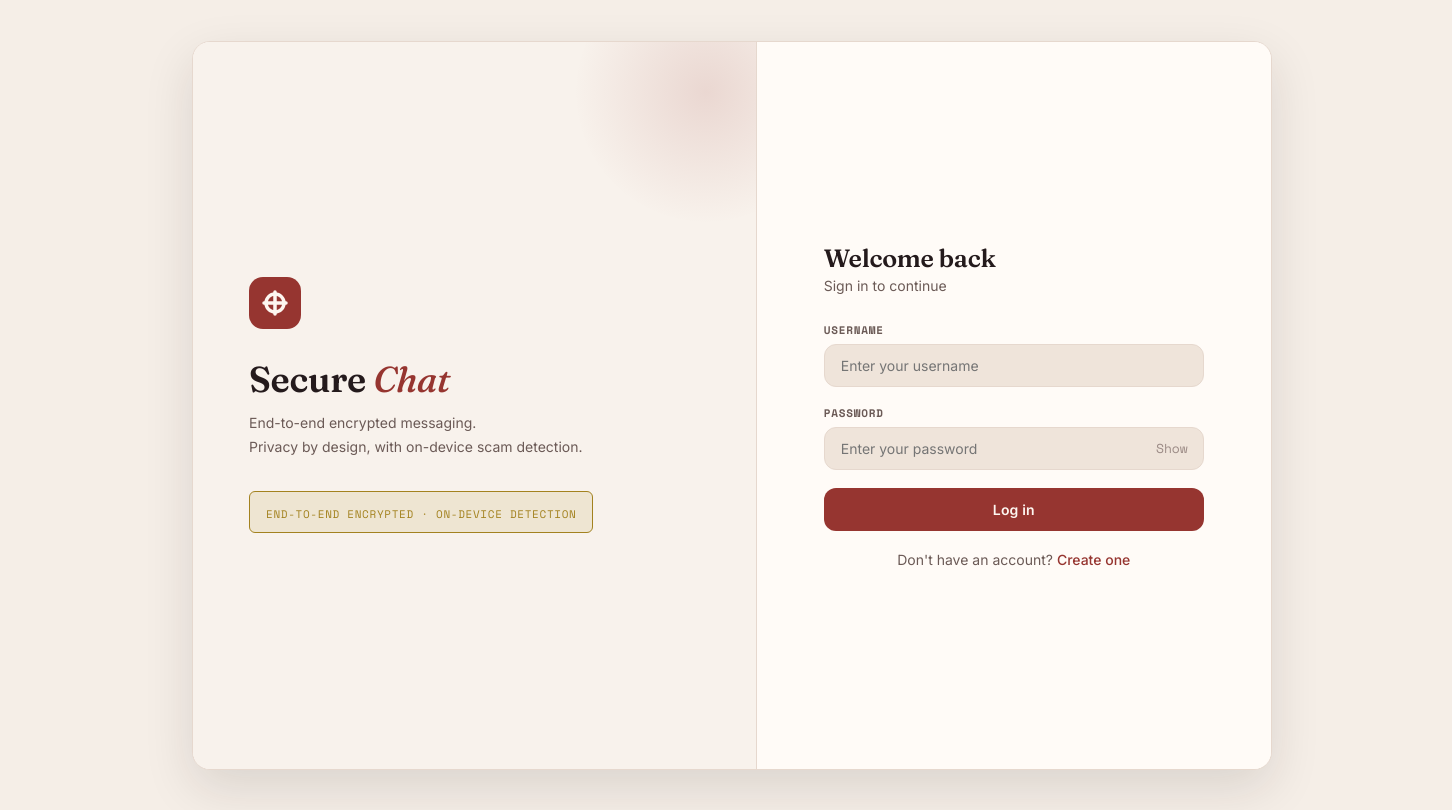
AuthScreen › logs in, bootstraps identity keys, and establishes a session
The width and height of the screenshot is (1452, 810).
Type "alice" into the field labelled "Username" at (1014, 365), box top-left (824, 344), bottom-right (1204, 386)
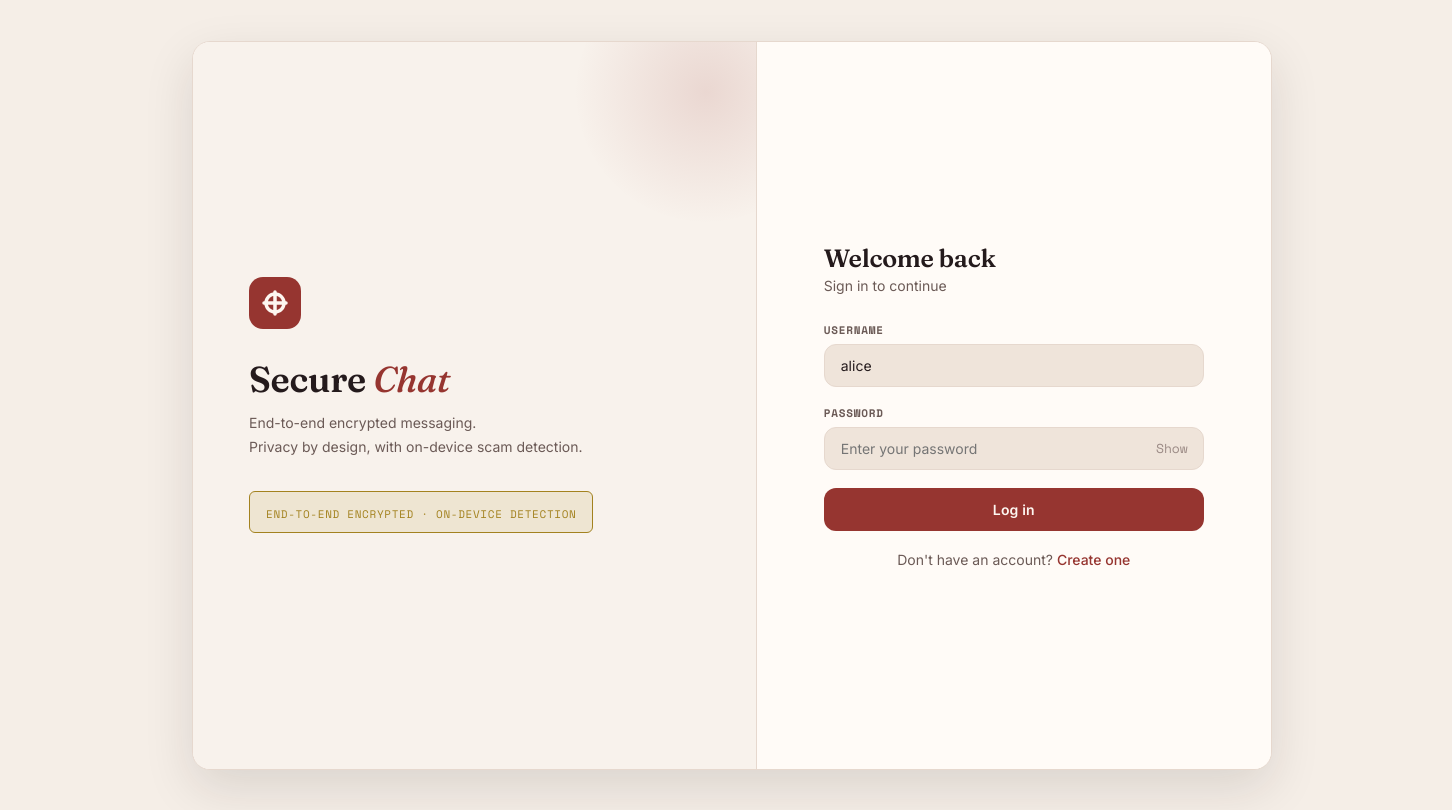
Type "correct horse battery staple" into the password field labelled "Password" at (1014, 448), box top-left (824, 426), bottom-right (1204, 470)
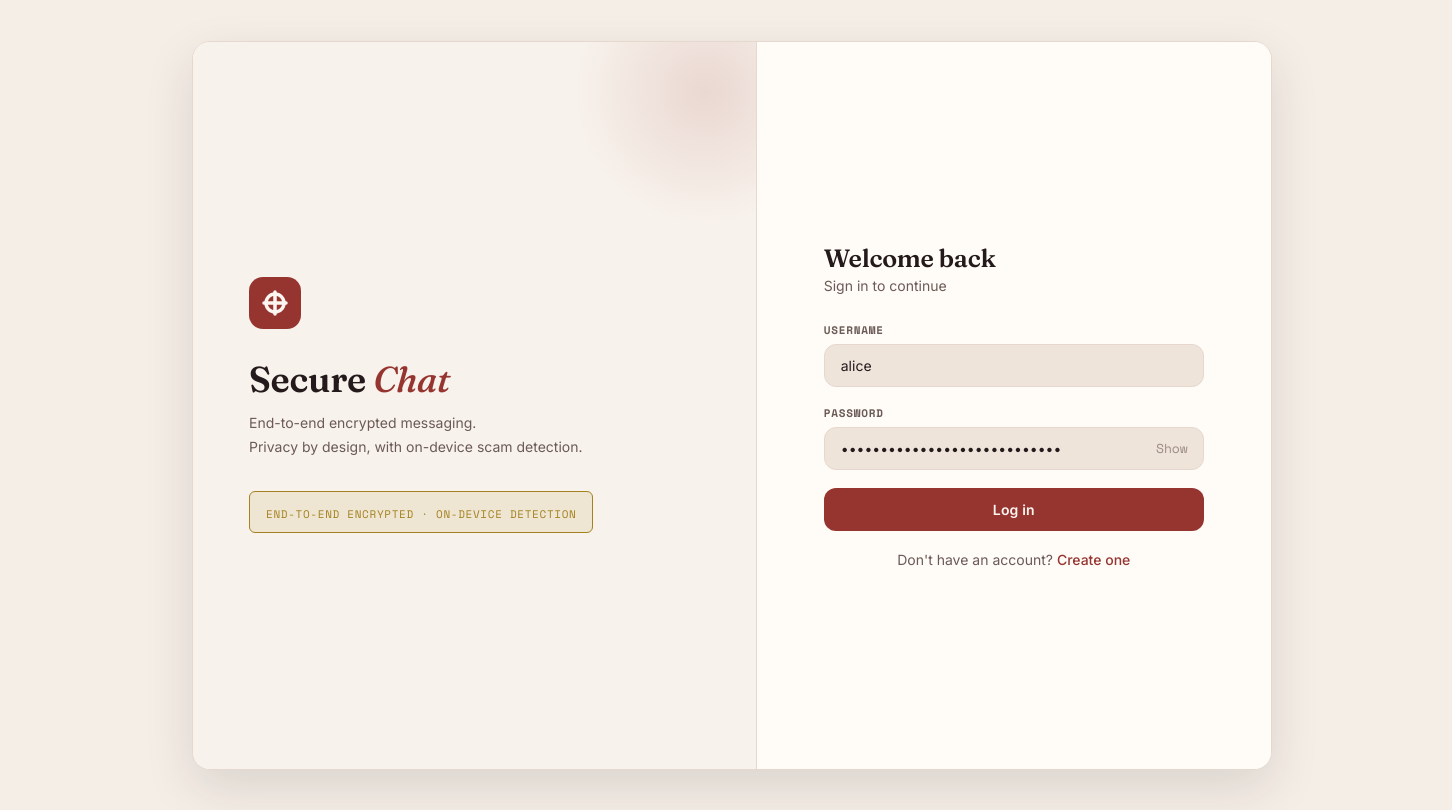
Click the button "Log in" at (1014, 509), box top-left (824, 488), bottom-right (1204, 530)
(page scrolled)
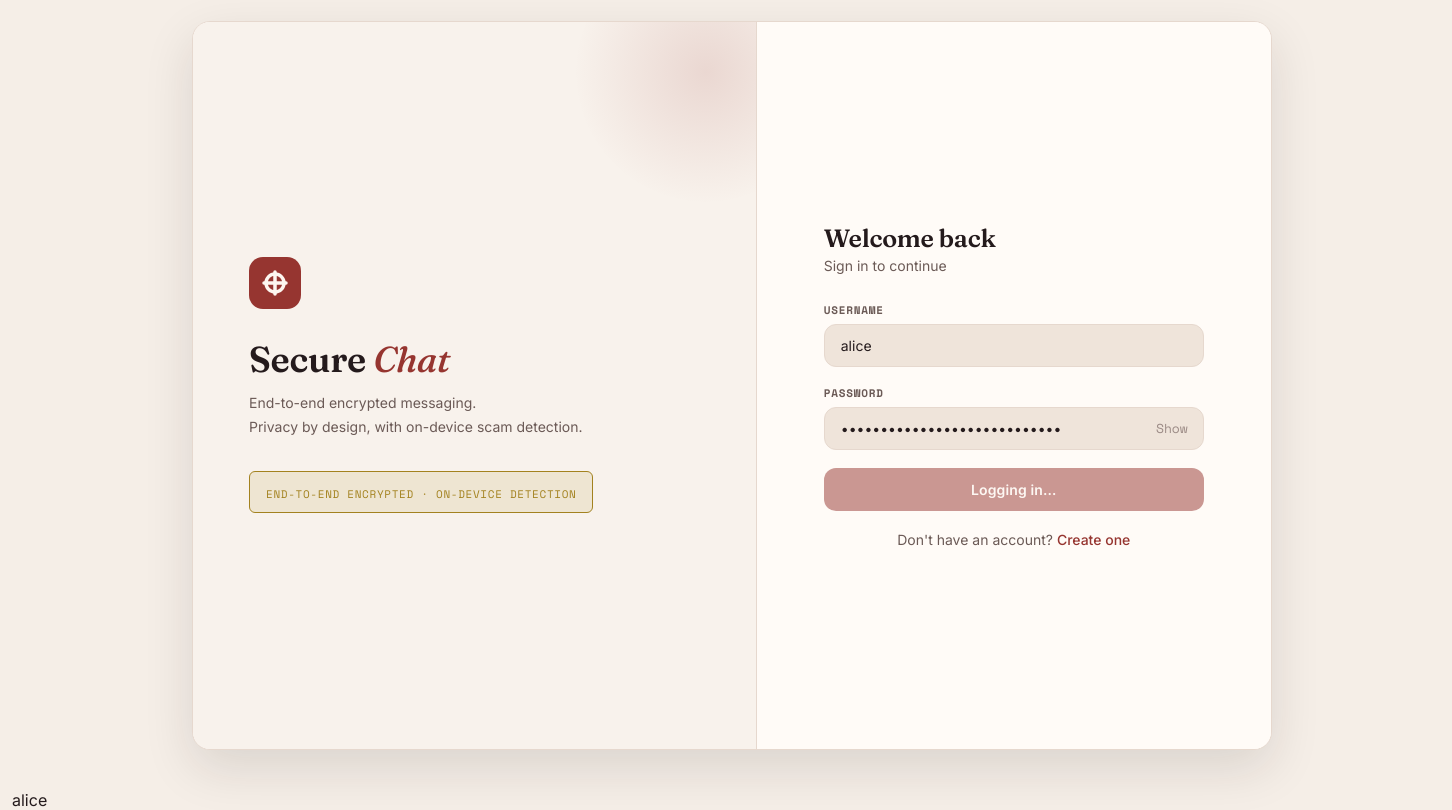
Result: the text with test id "session-probe" reads "alice" at top-left (12, 790), bottom-right (47, 809)
